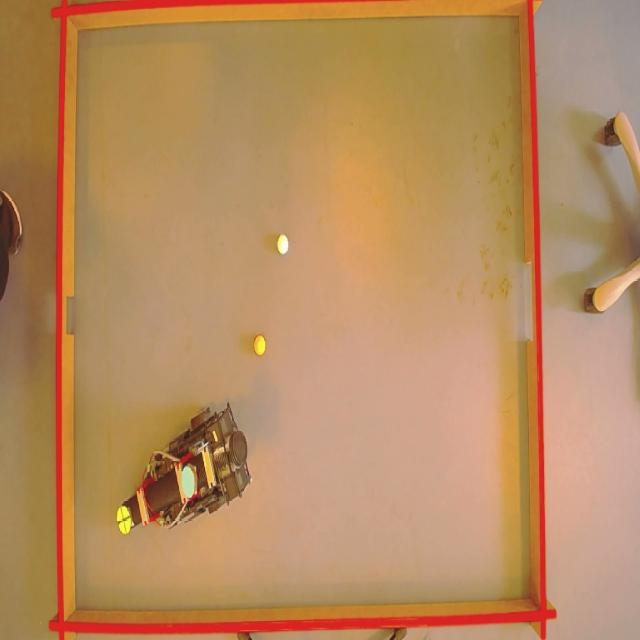orange: (254, 335, 268, 356)
robot: (105, 402, 256, 537)
robot-front: (116, 504, 132, 535)
robot-rear: (180, 466, 198, 500)
white: (274, 233, 289, 255)
